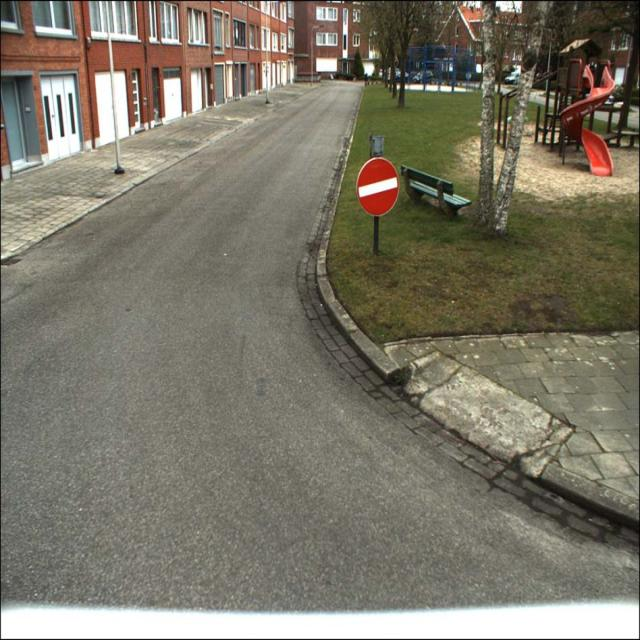girisyok: (356, 156, 399, 216)
